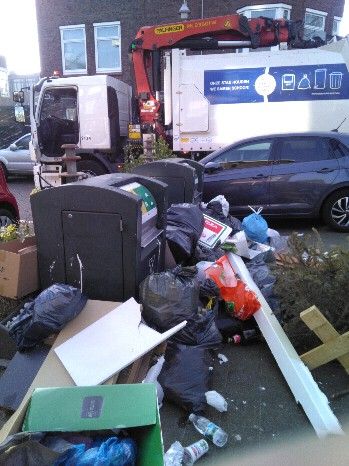Container: (45, 179, 151, 299), (157, 156, 205, 192)
GFT: (275, 235, 349, 369)
Papier: (8, 235, 42, 307)
Plastic: (190, 414, 229, 447)
Rest: (30, 10, 349, 155), (8, 333, 110, 430), (34, 391, 158, 466), (62, 316, 159, 392), (181, 265, 283, 337), (142, 264, 192, 341), (233, 242, 328, 281), (163, 340, 219, 406), (306, 300, 348, 385), (19, 287, 81, 341), (168, 204, 208, 254), (206, 182, 227, 244), (234, 213, 274, 243), (153, 443, 205, 461)
Voertuig: (203, 131, 349, 220)
